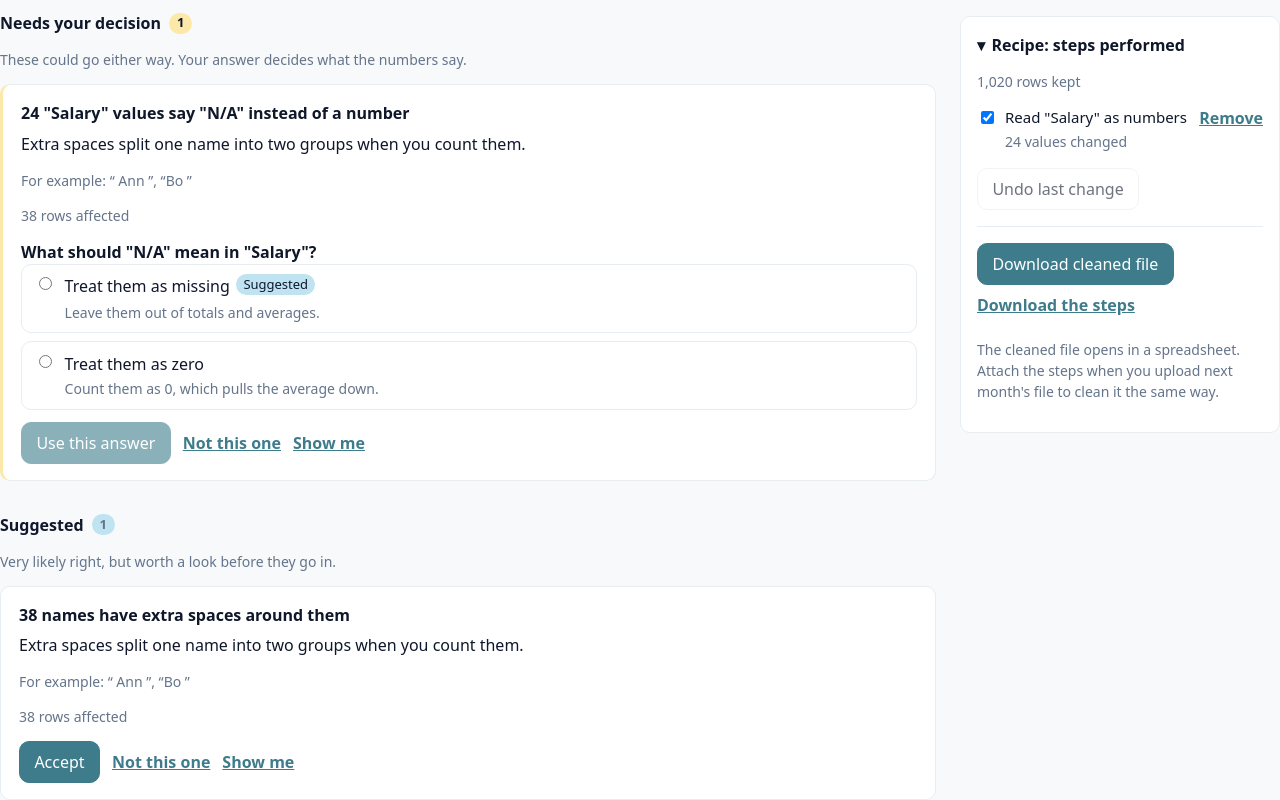
ReviewPage › turns a suggestion down
(page scrolled)
Expected: the heading "Suggested 1" is shown, [0,514,115,536]
Click the 2nd button "Not this one" at [161, 762], box [112,750,210,774]
(page scrolled)
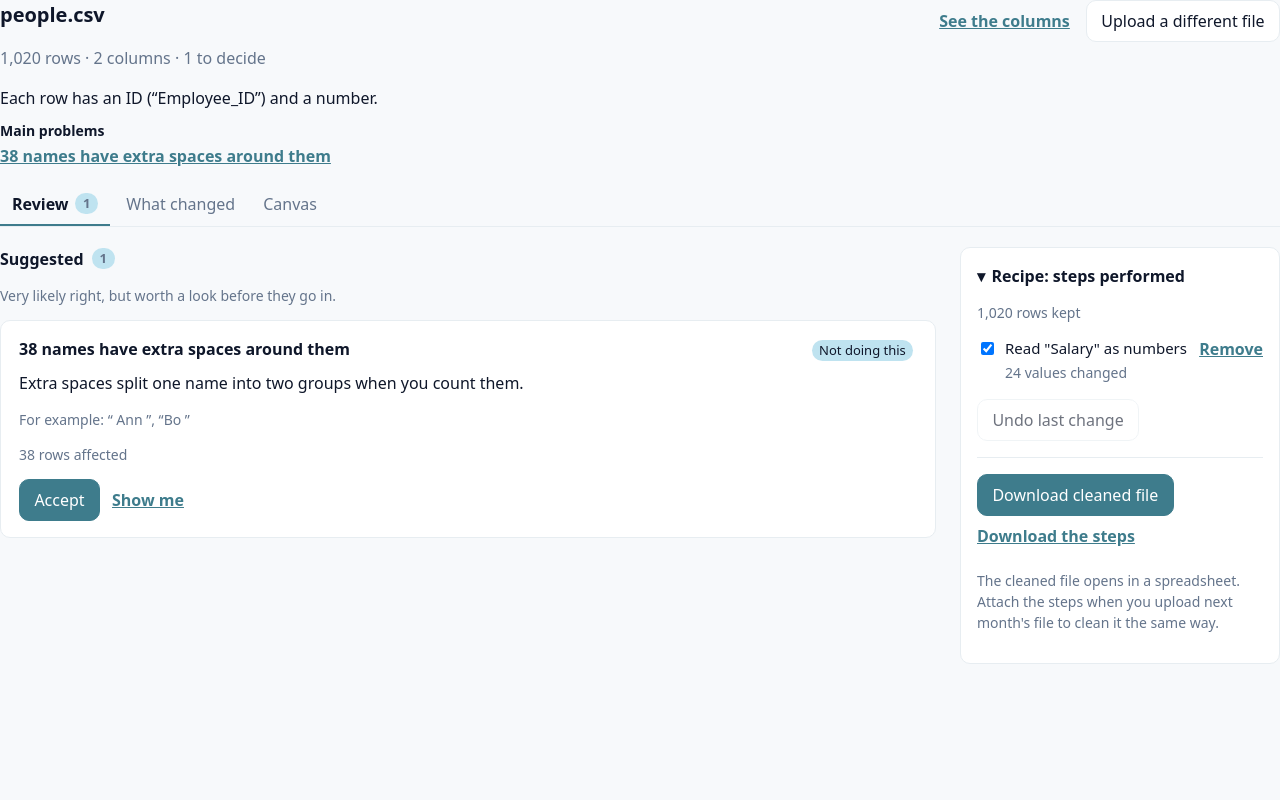
Result: the text "Not doing this" is shown at [812,340,913,361]
